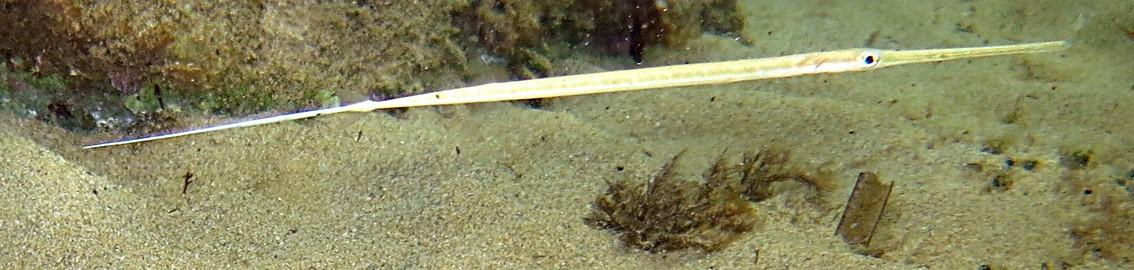Fistularia commersonii: (80, 22, 1077, 122)
